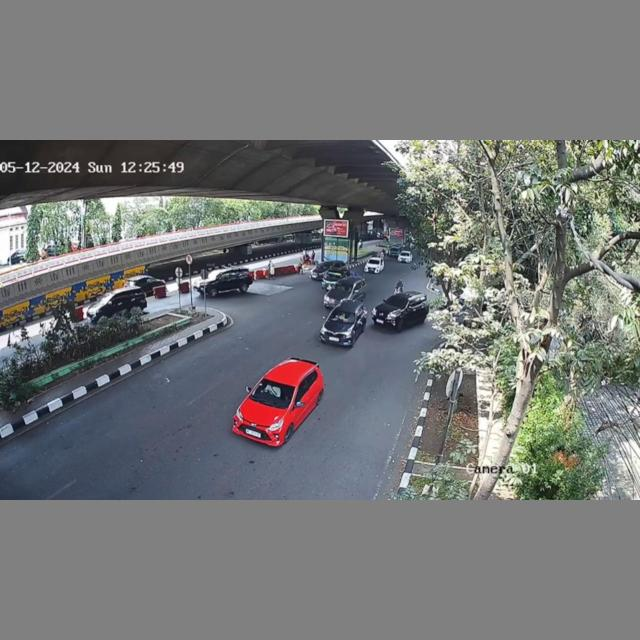windshield: (248, 376, 295, 409), (327, 309, 356, 325)
